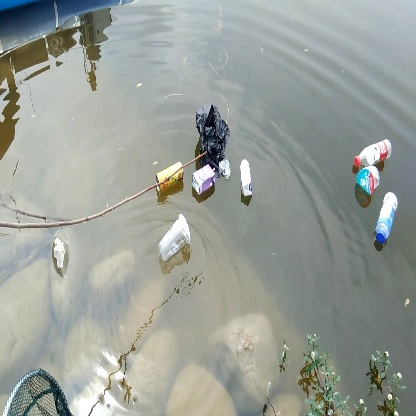bottle: (157, 214, 192, 263), (372, 187, 400, 243), (351, 137, 394, 167), (156, 161, 186, 194)
milk-box: (188, 165, 218, 196), (237, 159, 255, 197)
plastic-bag: (196, 105, 230, 165)
